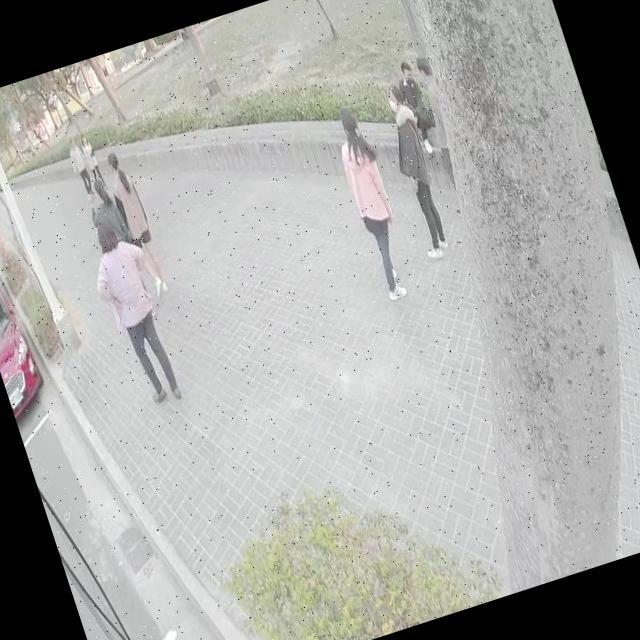person: (79, 208, 189, 410), (324, 99, 420, 304), (378, 86, 458, 258), (102, 148, 171, 296), (412, 57, 468, 181), (393, 59, 441, 158), (80, 172, 132, 248), (65, 136, 97, 199), (78, 132, 106, 188)
